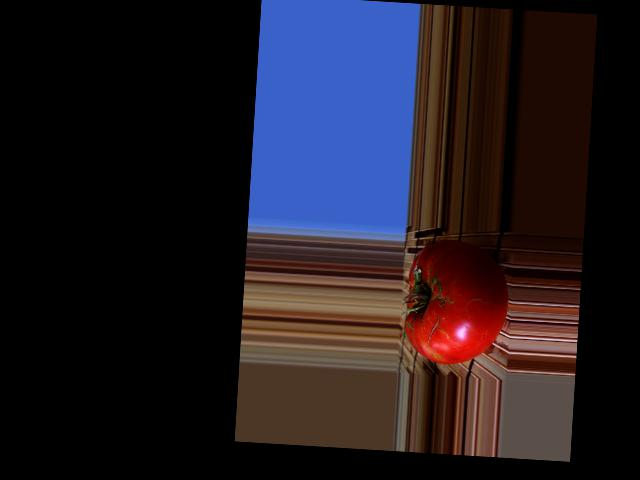tomato: (403, 237, 510, 367)
